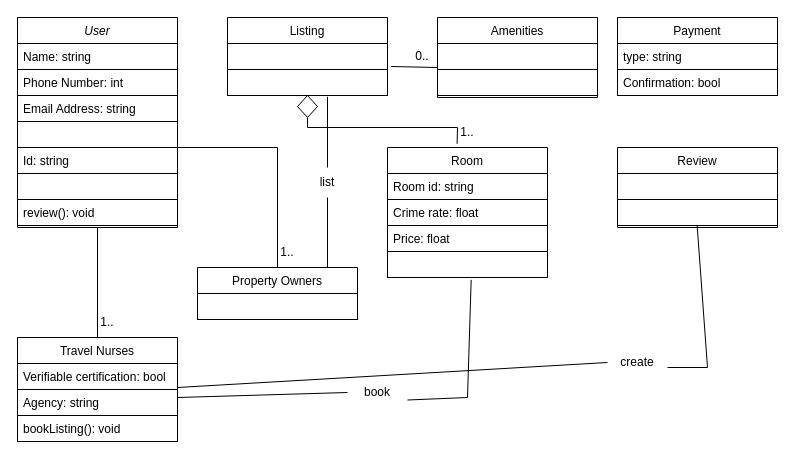
This 795x462 diagram has some shape labels left out. Here are the shapes that lost their labels. From the top down, the centre of each, then its label:
At point 307,56: "Location: string".
At point 517,56: "Grocery stores: string".
At point 307,82: "filter(): void".
At point 517,82: "Gym: bool".
At point 97,134: "Password".
At point 97,186: "createAccount(): void".
At point 697,186: "Rating: float".
At point 697,212: "Comments: string".
At point 467,264: "Availability: bool".
At point 277,306: "Housing certification: bool".
